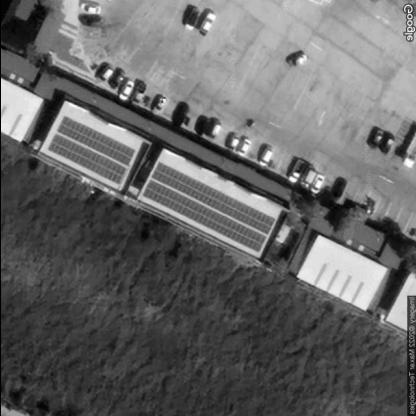solar-pv-panel: (143, 163, 274, 254), (48, 115, 136, 185)
